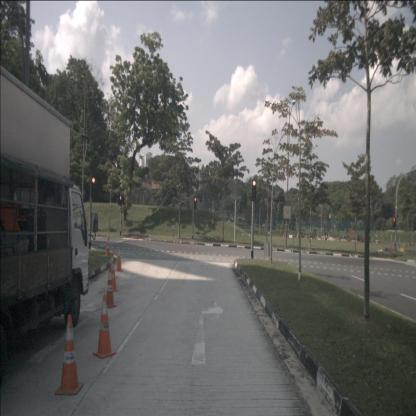cone: (54, 311, 84, 399), (94, 292, 116, 358), (104, 268, 118, 308), (108, 255, 118, 292), (115, 248, 123, 271), (105, 236, 111, 256)
